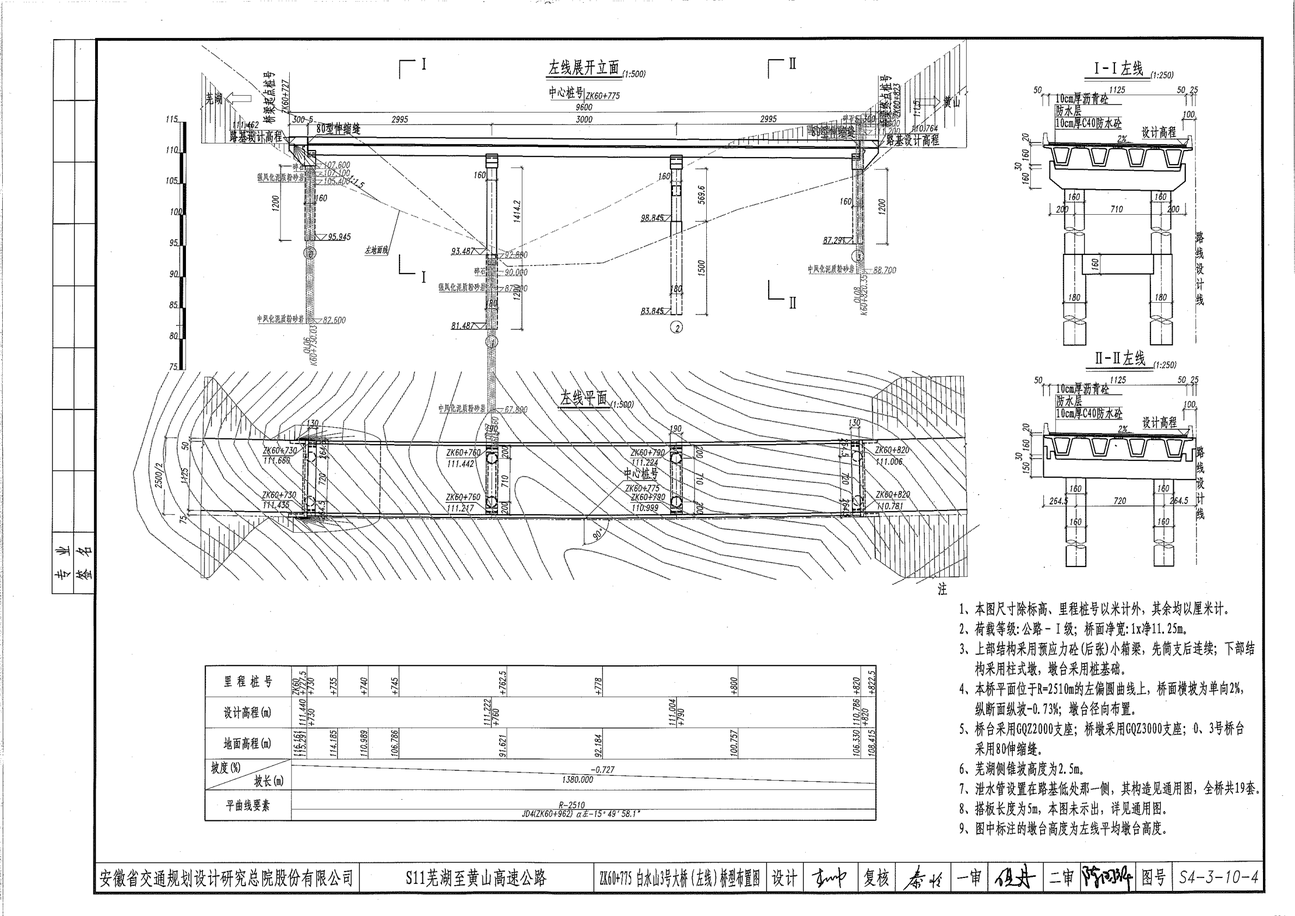A: (156, 52, 960, 354)
